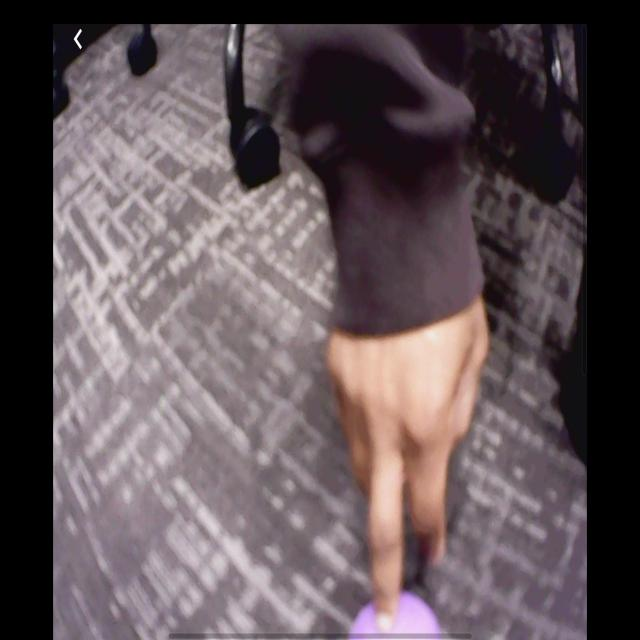ball: (349, 590, 444, 638)
